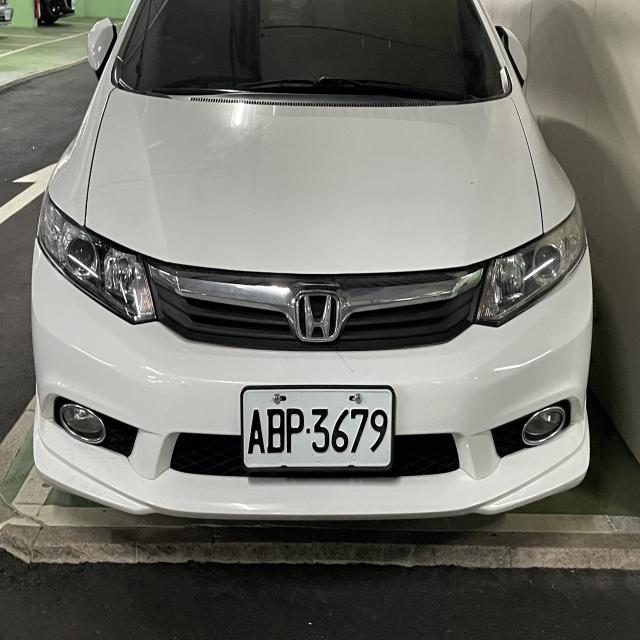license-plate: (240, 384, 396, 471)
